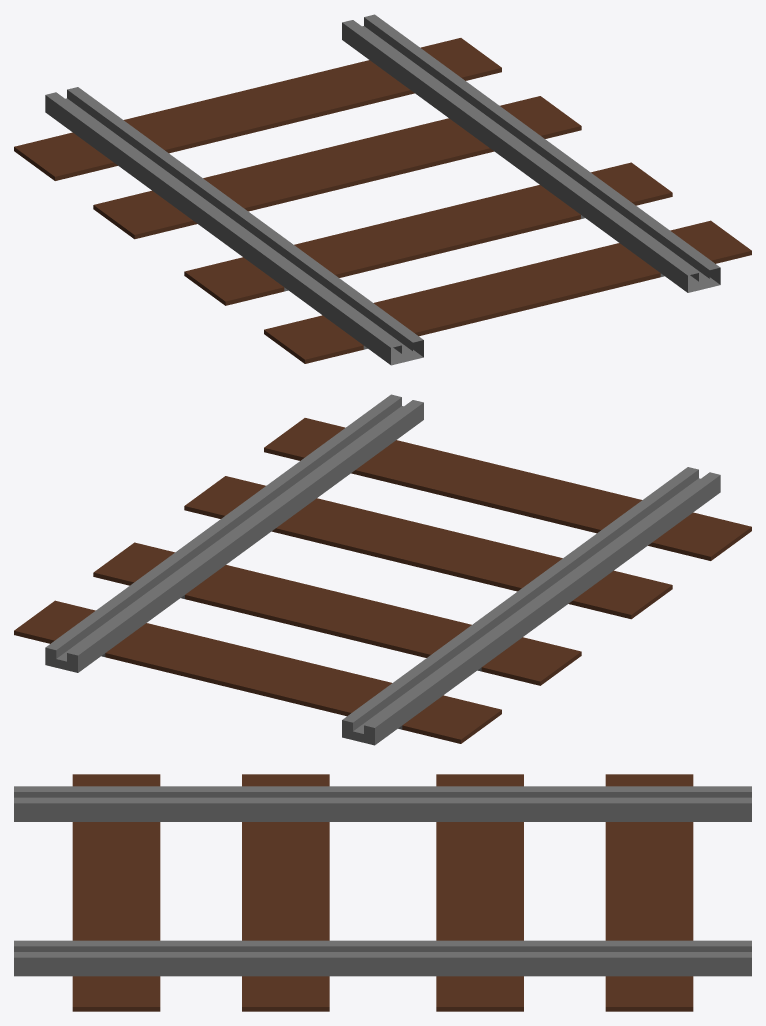
Rendered from railroad-track-linear-piece.fbx.
3 views of the same model, one above another, from view 1: azimuth 30°, elevation 25°; view 2: azimuth 150°, elevation 25°; view 3: azimuth 270°, elevation 25° (orthographic). The views are drawn at different scales.
Visible parts, largest first — view 1: railroad-track-linear-piece; view 2: railroad-track-linear-piece; view 3: railroad-track-linear-piece.
Part boxes in pixels (x1,y1,x2,y2): railroad-track-linear-piece: (14, 14, 751, 365); railroad-track-linear-piece: (14, 394, 751, 745); railroad-track-linear-piece: (14, 774, 751, 1011).
Bounding box in the file's own units: 4.48 × 0.209 × 6.
